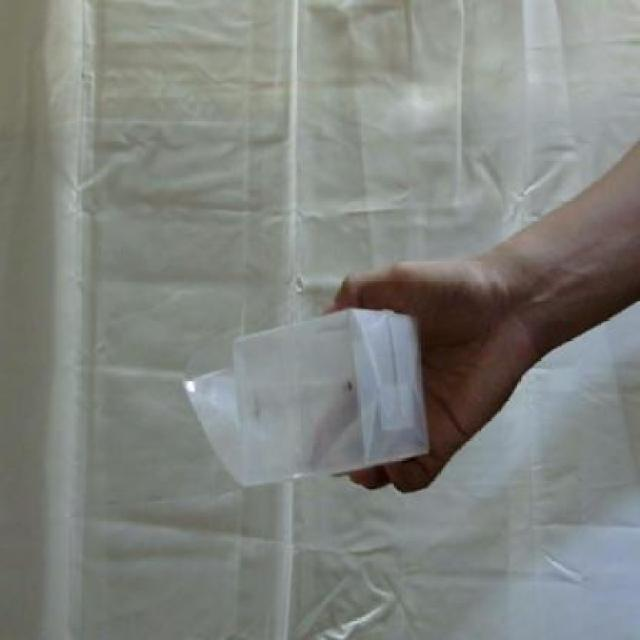Plastic: (180, 307, 431, 487)
